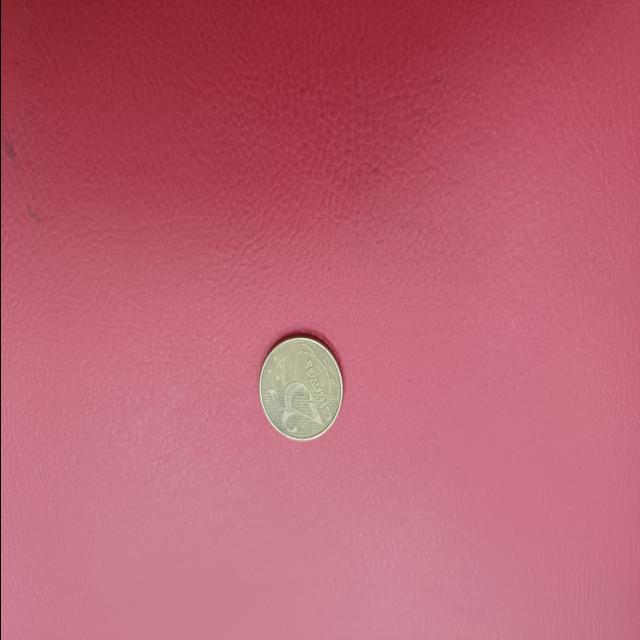25 cents: (252, 332, 344, 442)
